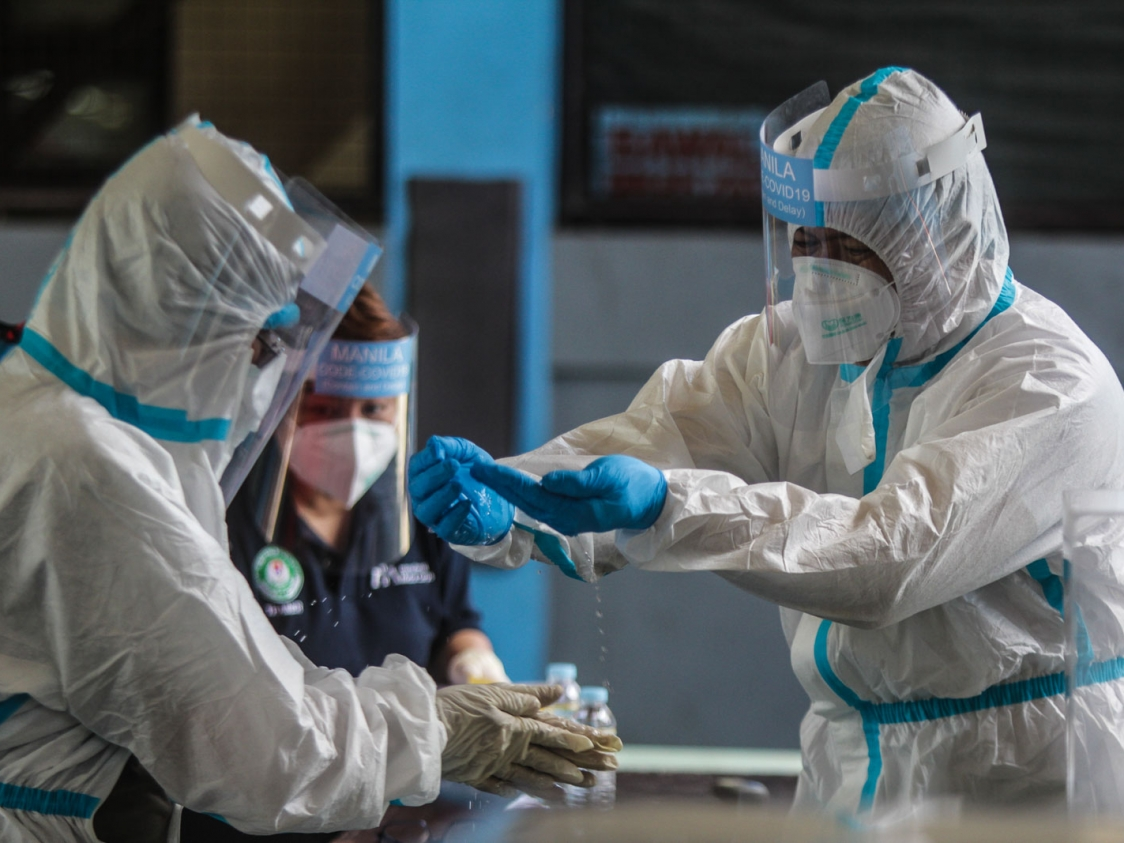Coverall: (715, 77, 1111, 837), (2, 126, 316, 843)
Gloves: (430, 679, 613, 811), (478, 452, 685, 541), (392, 428, 514, 552)
with_mask: (779, 213, 915, 372), (290, 381, 399, 512)
